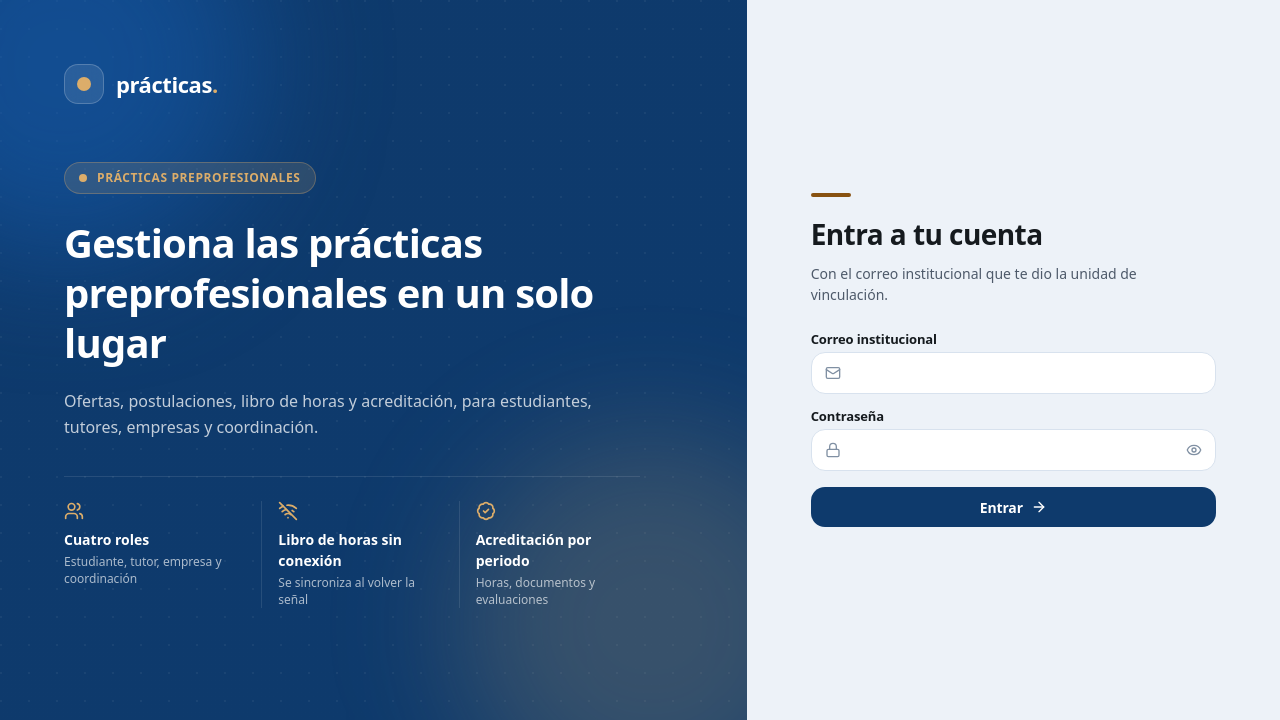
it: LoginPage › muestra el modal de advertencia si hay horas sin sincronizar y permite cancelar sin borrar
Type "otro@miyura.com" into the field labelled "Correo institucional" at (1013, 373), box [811,352,1216,394]
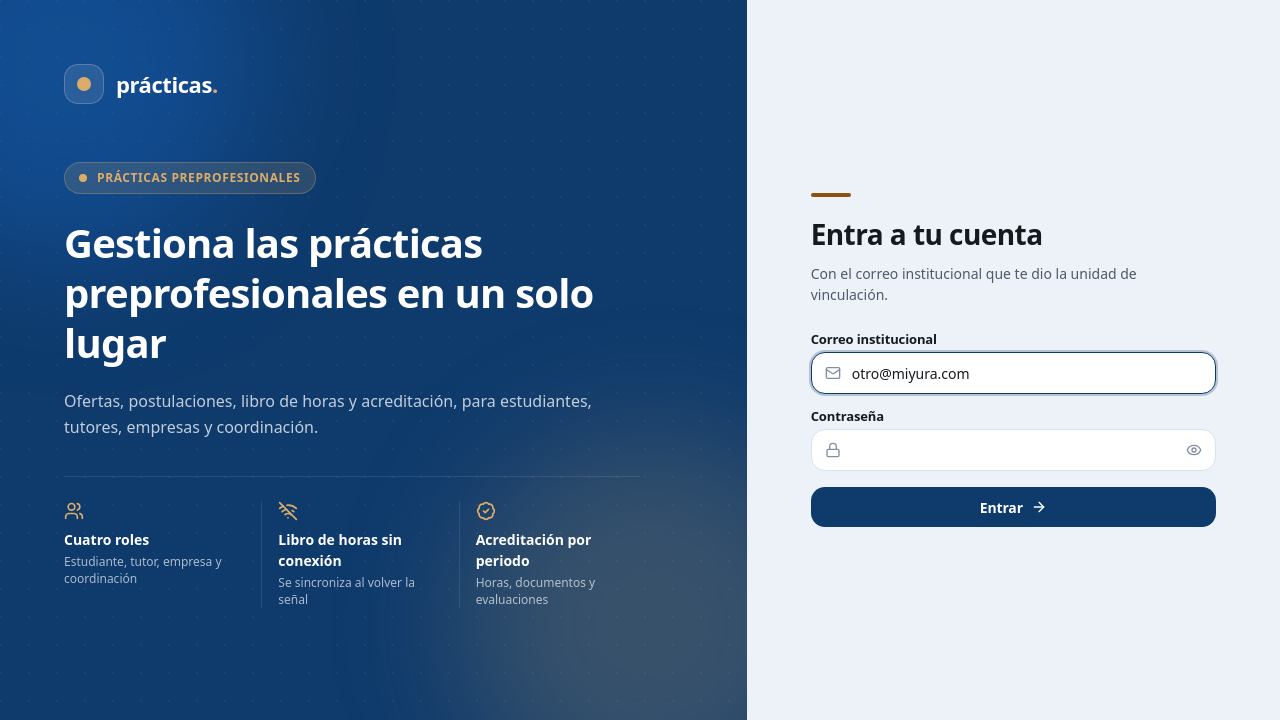
Type "pass123" into the password field labelled "Contraseña" at (1013, 450), box [811,429,1216,471]
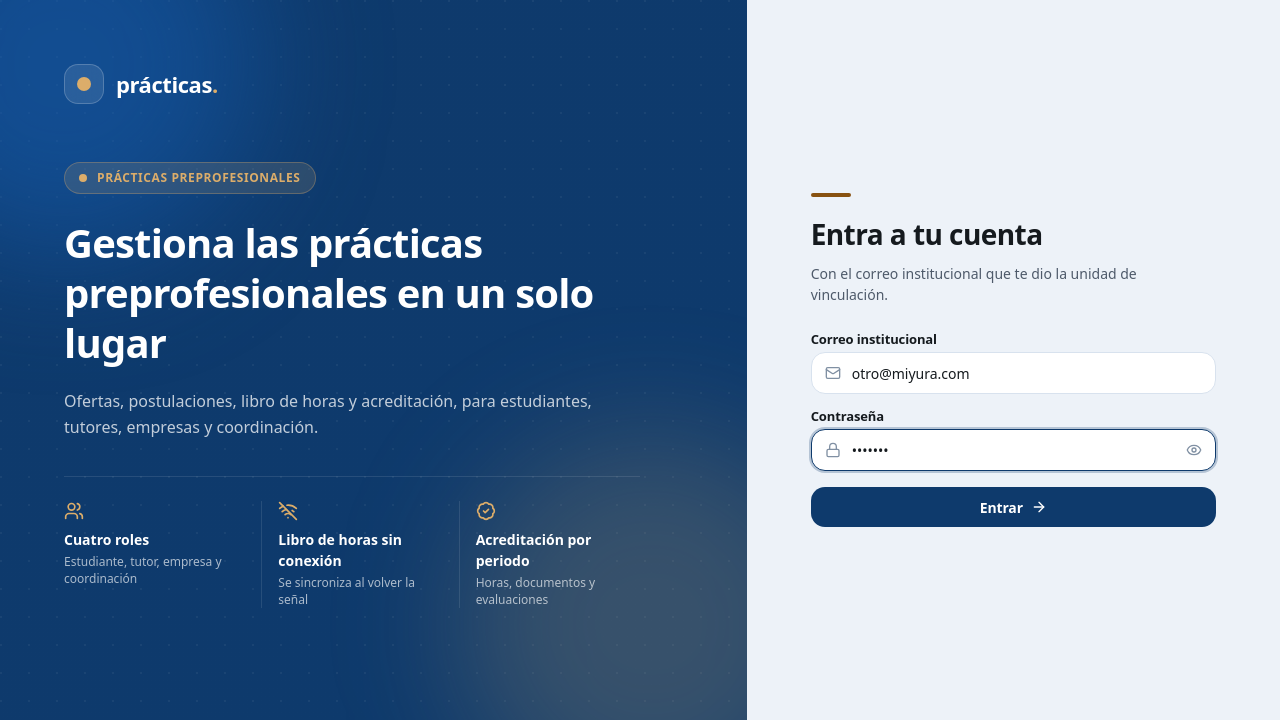
Click the button "Entrar" at (1013, 507), box [811,487,1216,527]
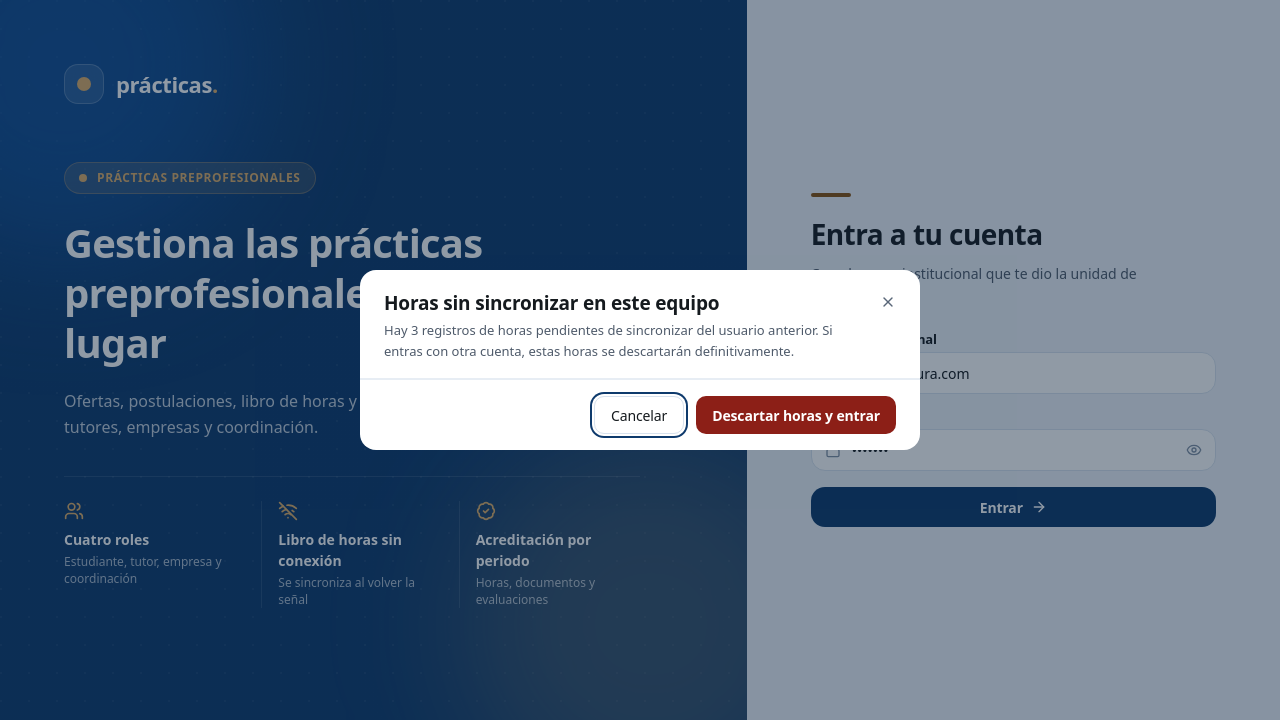
Expected: the heading "Horas sin sincronizar en este equipo" is shown, [384,290,719,316]
Expected: the text "Hay 3 registros de horas pendientes" is shown, [384,320,864,362]
Note: El usuario cancela
Click the button "Cancelar" at (639, 415), box [594,396,684,434]
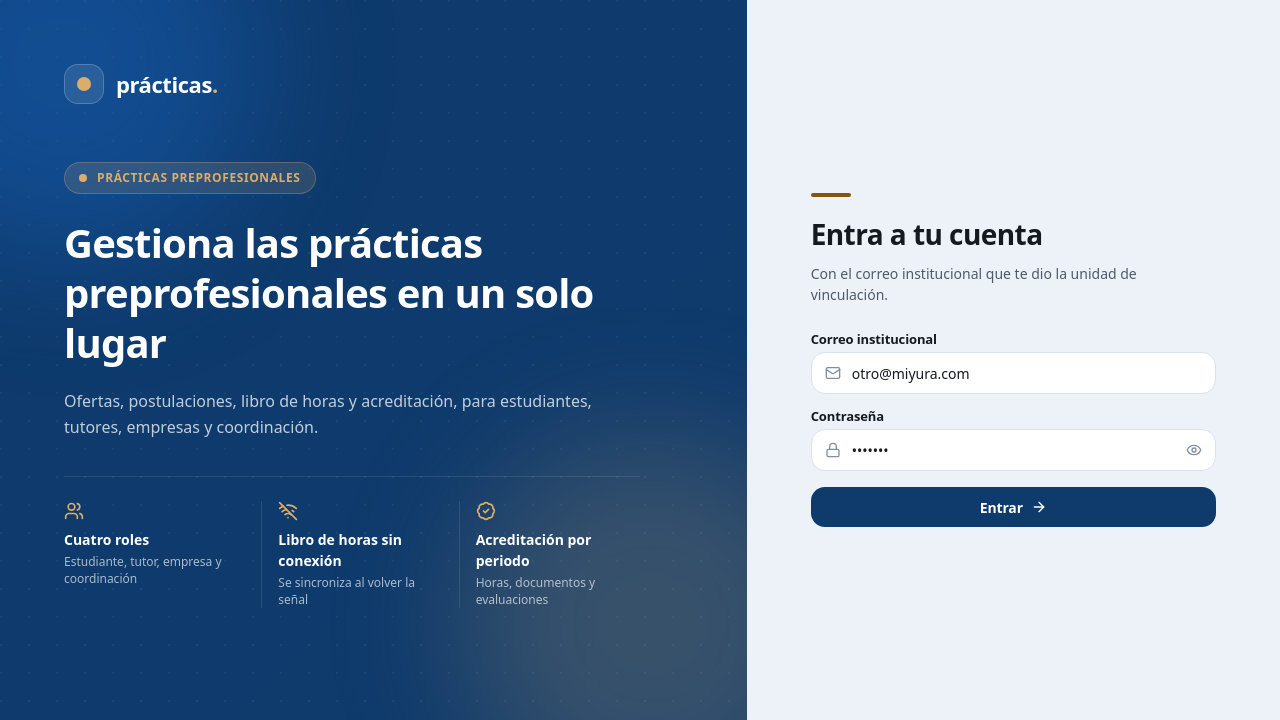
Expected: the heading "Horas sin sincronizar en este equipo" is gone
